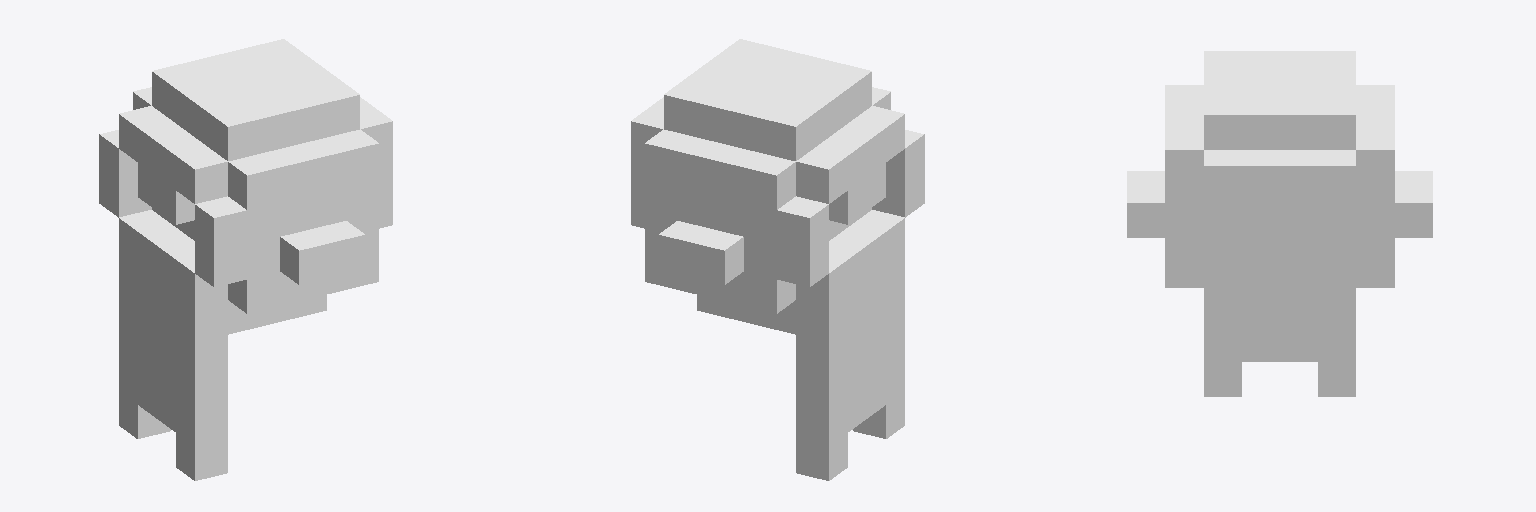
Rendered from Dwarf2.obj.
3 renders of one model, left to right at view 1: azimuth 30°, elevation 25°; view 2: azimuth 150°, elevation 25°; view 3: azimuth 270°, elevation 25°, orthographic.
Parts seen in each view (by area): view 1: object 1; view 2: object 1; view 3: object 1.
Boxes of the visible parts, x1,y1,x2,y2 form: object 1: [99, 39, 392, 480]; object 1: [631, 39, 924, 480]; object 1: [1127, 51, 1432, 396].
Bounding box in the file's own units: 0.6 × 1 × 0.8.